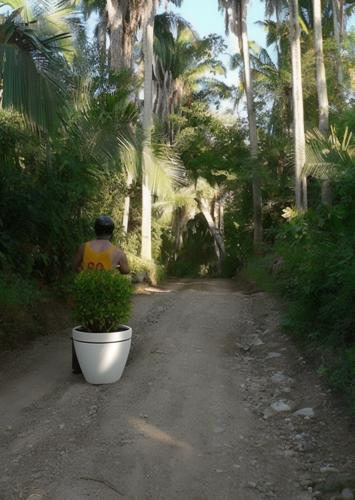person: (71, 217, 146, 347)
person/foot: (118, 337, 135, 347)
person/hand: (135, 274, 146, 281)
person/head: (95, 217, 115, 239)
pottedplant: (72, 269, 133, 382)
